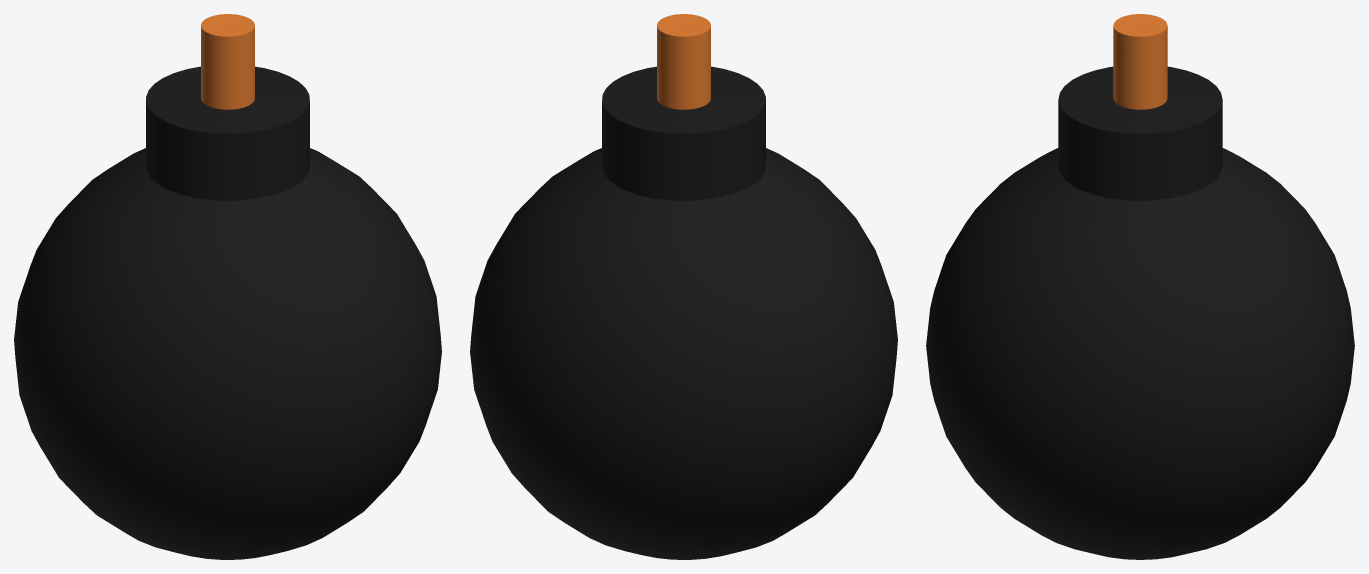
Rendered from bomb.fbx.
The picture shows the model from 3 angles, left to right: view 1: azimuth 30°, elevation 25°; view 2: azimuth 150°, elevation 25°; view 3: azimuth 270°, elevation 25°; orthographic projection.
Visible parts, largest first — view 1: Sphere; view 2: Sphere; view 3: Sphere.
Boxes of the visible parts, x1,y1,x2,y2 form: Sphere: (14, 14, 441, 559); Sphere: (470, 14, 897, 559); Sphere: (926, 14, 1354, 559).
Size of the model in its own units: 100 by 132 by 100.
